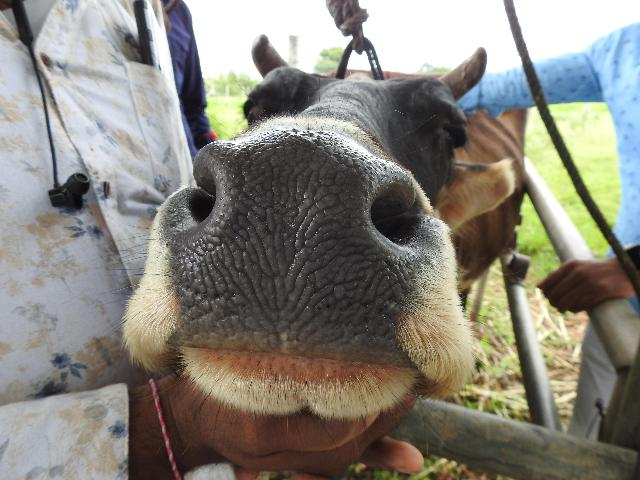Muzzle: (213, 144, 364, 338)
